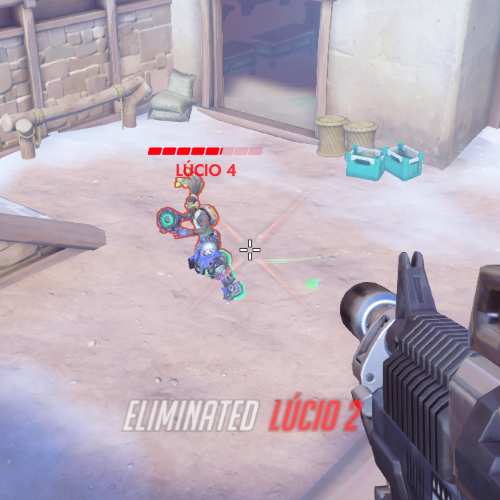hpbar: (147, 146, 263, 156)
